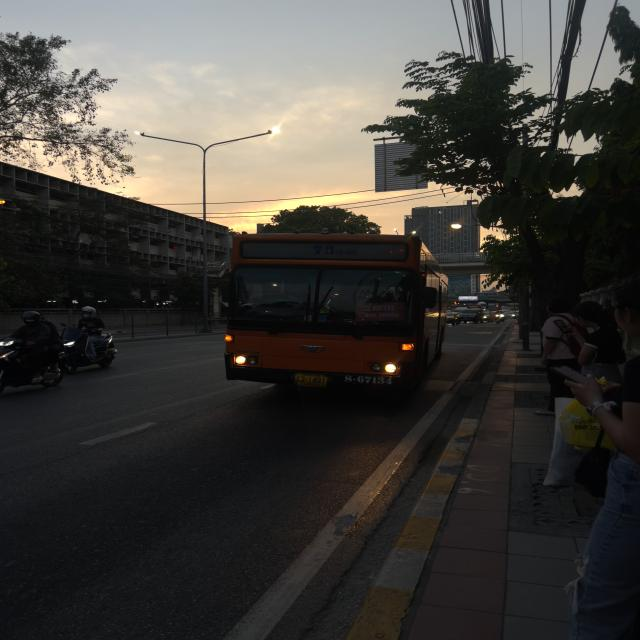BMTA-bus: (222, 233, 450, 401)
Bus-Line-Number: (307, 242, 360, 260)
Destination-Sign-Extra-Bus: (354, 301, 404, 321)
